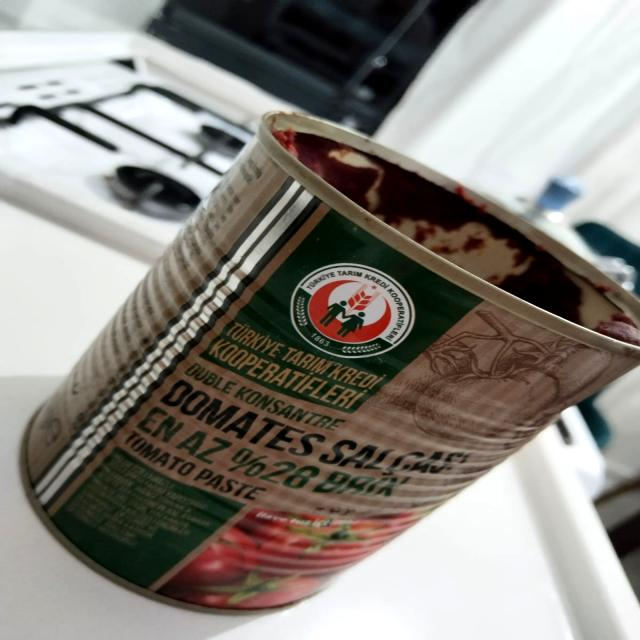tomato paste: (41, 169, 616, 598)
